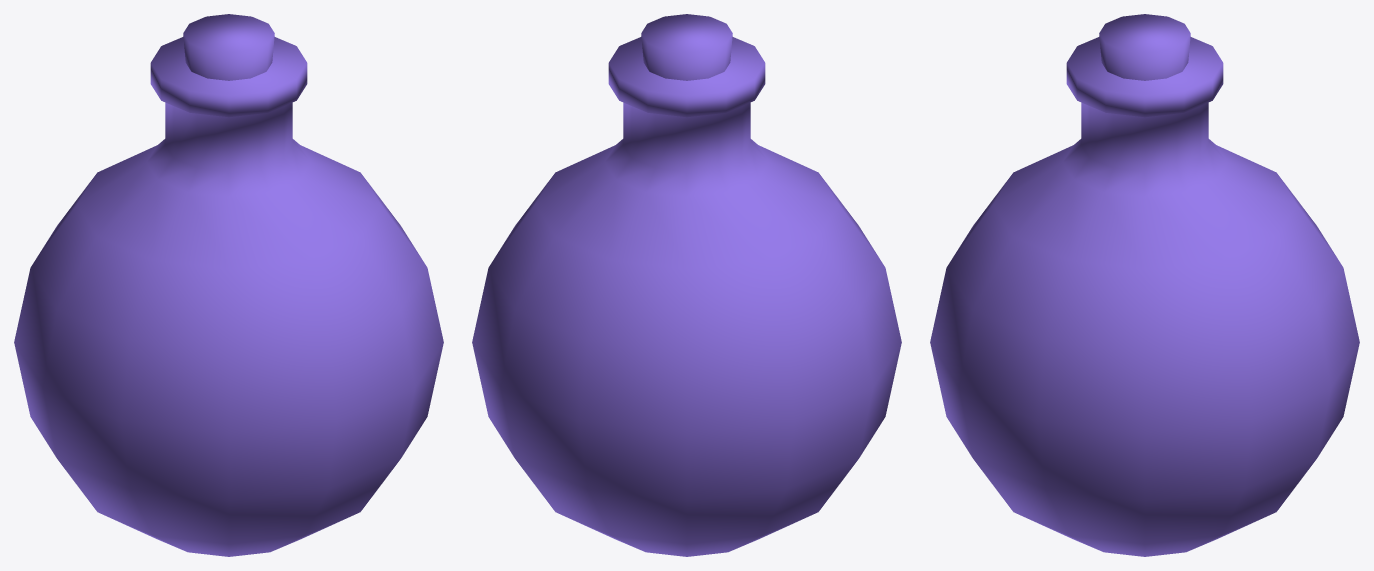
The model's file is bottle2.fbx.
3 views of the same model, side by side, from view 1: azimuth 30°, elevation 25°; view 2: azimuth 150°, elevation 25°; view 3: azimuth 270°, elevation 25° (orthographic).
Parts seen in each view (by area): view 1: bottle2; view 2: bottle2; view 3: bottle2.
Part boxes in pixels (<box>): bottle2: <box>14,14,443,556</box>; bottle2: <box>472,14,901,556</box>; bottle2: <box>930,14,1359,556</box>.
Bounding box in the file's own units: 9.14 × 11.83 × 9.14.
